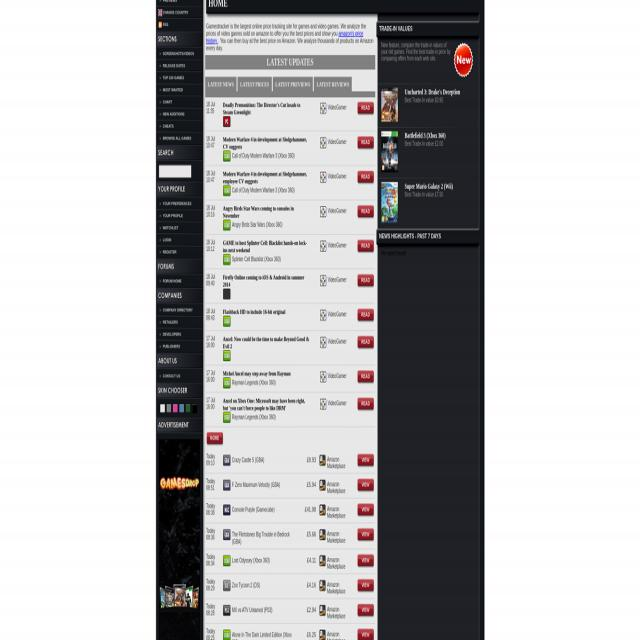button: (158, 580, 201, 618), (159, 473, 201, 496), (156, 144, 202, 160), (156, 181, 202, 197), (156, 258, 202, 274), (156, 288, 202, 304), (156, 353, 202, 369), (156, 31, 202, 47), (156, 382, 202, 398), (156, 417, 202, 433), (454, 42, 474, 78), (381, 131, 398, 172), (381, 182, 398, 223), (381, 88, 398, 122), (206, 431, 224, 446), (357, 101, 374, 116), (357, 135, 374, 150), (357, 170, 374, 185), (357, 204, 374, 219), (357, 335, 374, 350), (357, 369, 374, 384), (357, 453, 374, 468), (357, 527, 374, 542), (357, 578, 374, 593), (357, 603, 374, 618), (357, 239, 374, 253), (357, 274, 374, 288), (357, 308, 374, 322), (357, 397, 374, 411), (357, 478, 374, 492), (357, 503, 374, 517), (357, 554, 374, 568), (357, 629, 374, 640), (223, 629, 230, 640), (223, 116, 230, 126), (223, 151, 230, 161), (223, 186, 230, 196), (223, 220, 230, 230), (223, 254, 230, 264), (223, 316, 230, 326), (223, 350, 230, 360), (223, 378, 230, 388), (223, 412, 230, 422), (223, 456, 230, 466), (223, 480, 230, 490), (223, 505, 230, 515), (223, 530, 230, 540), (223, 556, 230, 566), (223, 580, 230, 590), (223, 606, 230, 616), (320, 104, 326, 114), (320, 138, 326, 148), (320, 172, 326, 182), (320, 206, 326, 216), (320, 241, 326, 251), (320, 276, 326, 286), (320, 310, 326, 320), (320, 338, 326, 348), (320, 372, 326, 382), (320, 399, 326, 409), (166, 403, 172, 413), (172, 403, 178, 413), (179, 403, 185, 413), (185, 403, 191, 413), (319, 456, 325, 466), (319, 480, 325, 490), (319, 505, 325, 515), (319, 530, 325, 540), (319, 556, 325, 566), (319, 580, 325, 590), (319, 606, 325, 616), (319, 630, 325, 640), (160, 403, 165, 413), (192, 403, 197, 413)
field: (160, 167, 190, 175)
